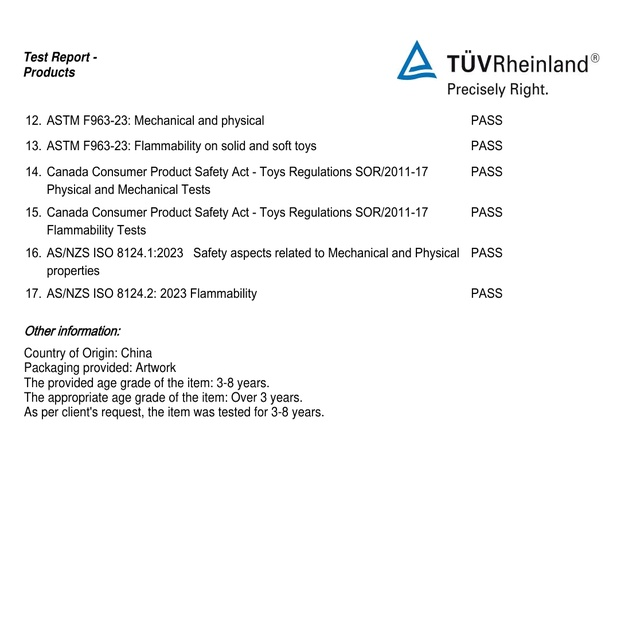tuv_rheinland: (396, 40, 602, 83)
